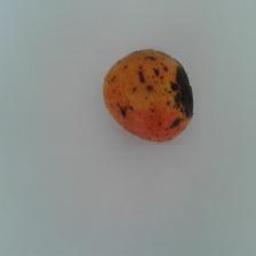Mango Rotten: (95, 39, 202, 145)
